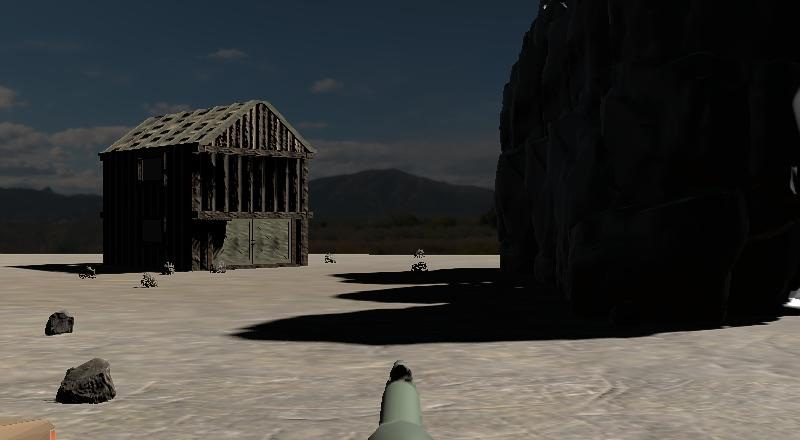House: (101, 100, 315, 267)
